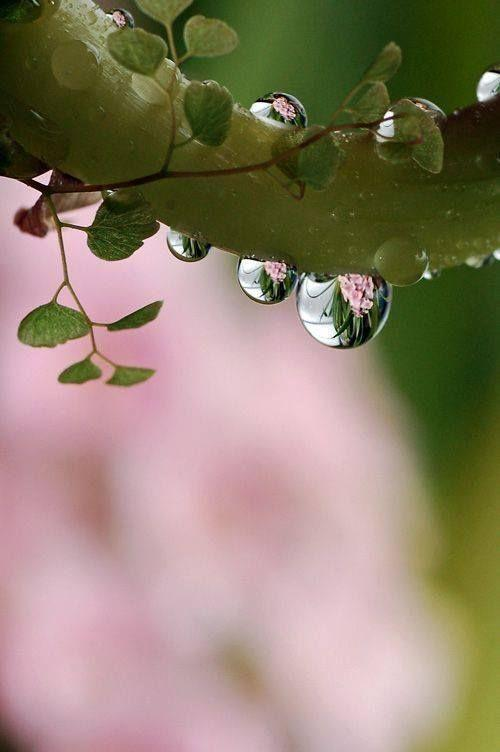water drop: (299, 256, 395, 350), (239, 252, 296, 306), (167, 220, 213, 262)
